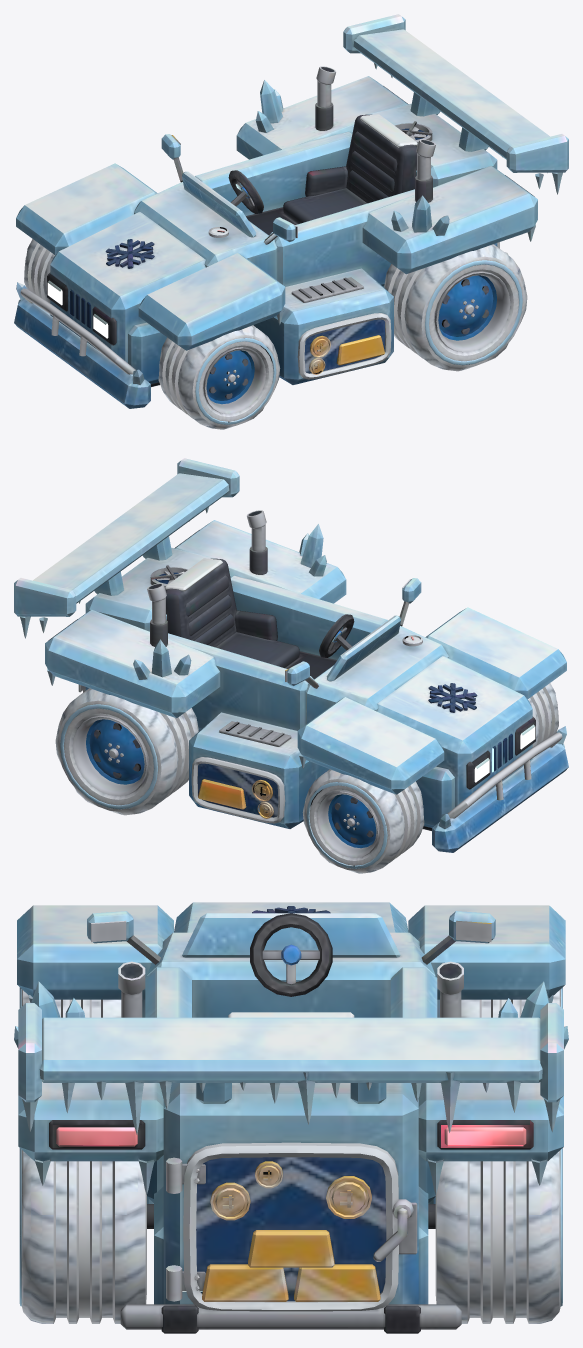
File: ice-block-v2.glb
3 renders of one model, top to bottom at view 1: azimuth 30°, elevation 25°; view 2: azimuth 150°, elevation 25°; view 3: azimuth 270°, elevation 25°, orthographic. The views are drawn at different scales.
Visible parts, largest first — view 1: iceblock_body, wheel_rear, wheel_front_l, wheel_front_r; view 2: iceblock_body, wheel_rear, wheel_front_r, wheel_front_l; view 3: iceblock_body, wheel_rear, wheel_front_l, wheel_front_r.
Boxes of the visible parts, x1,y1,x2,y2 form: iceblock_body: (14, 14, 568, 408); wheel_rear: (384, 244, 527, 371); wheel_front_l: (158, 325, 280, 429); wheel_front_r: (24, 239, 54, 302); iceblock_body: (14, 458, 568, 852); wheel_rear: (55, 688, 198, 815); wheel_front_r: (302, 769, 424, 873); wheel_front_l: (528, 683, 558, 746); iceblock_body: (14, 902, 568, 1333); wheel_rear: (19, 1148, 562, 1323); wheel_front_l: (19, 987, 121, 1017); wheel_front_r: (461, 987, 562, 1017).
Size of the model in its own units: 1.9 by 0.9244 by 1.36.
1 material, 1 textured.
